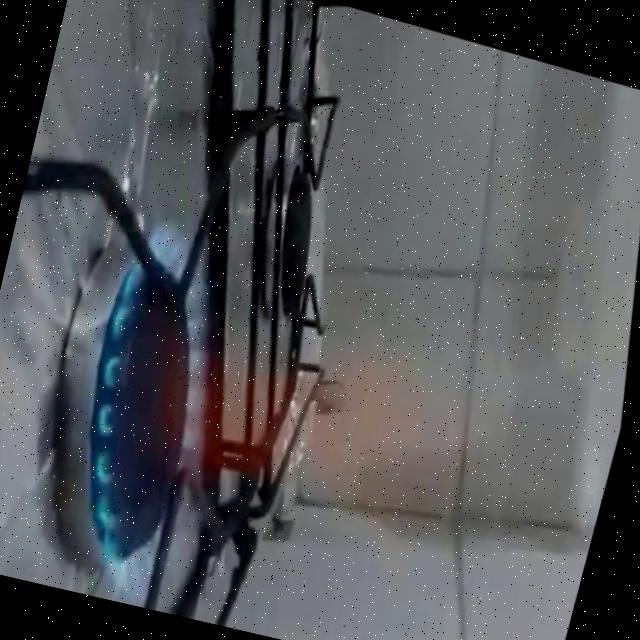fire: (22, 151, 542, 640)
